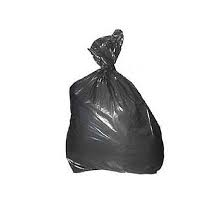Trash: (52, 31, 171, 176)
